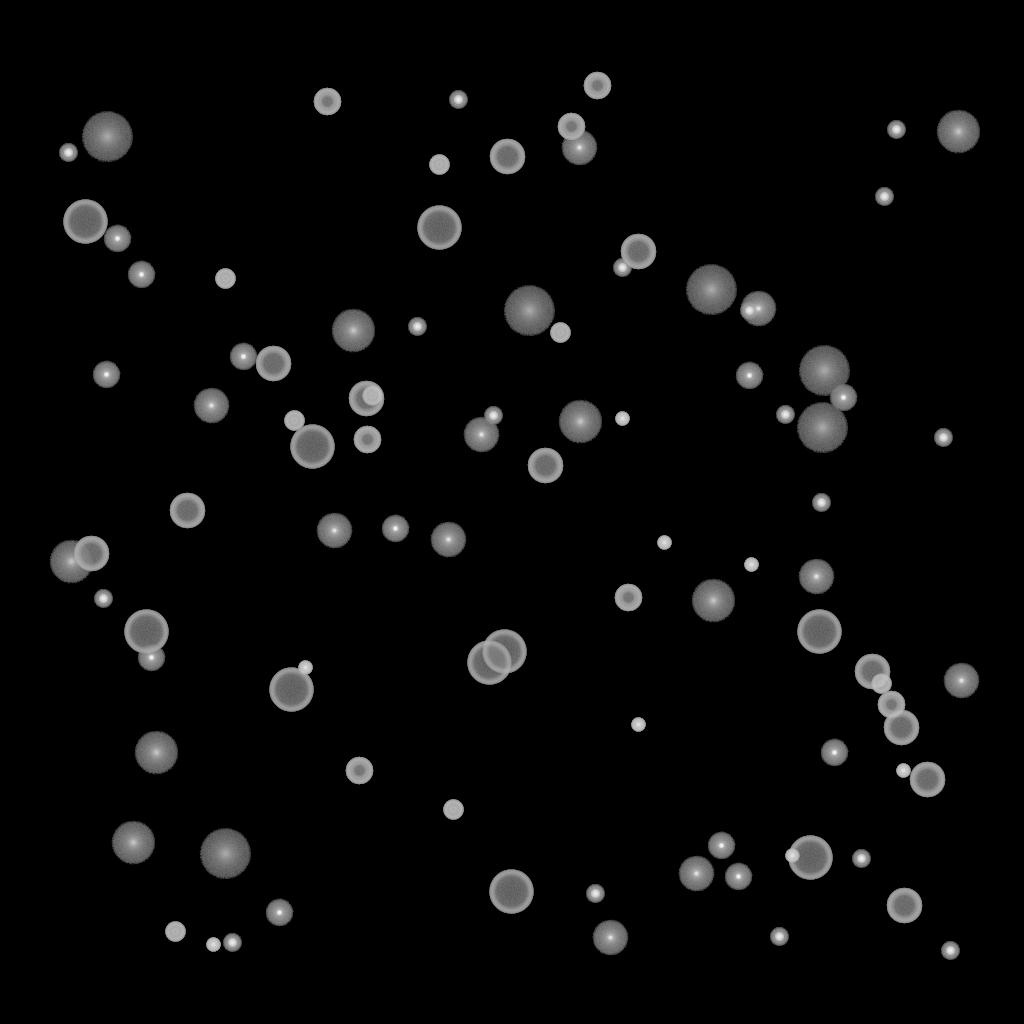depth:-10: (829, 384, 857, 412), (735, 362, 763, 390), (381, 515, 409, 543), (92, 361, 120, 389), (707, 832, 735, 860), (820, 739, 848, 767), (229, 343, 257, 371), (127, 261, 155, 289), (103, 225, 131, 253), (724, 863, 752, 891), (265, 899, 293, 927), (137, 644, 165, 672)
depth:-20: (875, 188, 893, 206), (770, 928, 788, 946), (941, 942, 959, 960), (852, 850, 870, 868), (223, 934, 241, 952), (59, 144, 77, 162), (94, 590, 112, 608), (484, 407, 502, 425), (449, 91, 467, 109), (887, 121, 905, 139), (812, 494, 830, 512), (740, 302, 758, 320), (934, 429, 952, 447), (776, 406, 794, 424), (408, 318, 426, 336), (586, 885, 604, 903), (613, 259, 631, 277)
depth:-30: (615, 412, 629, 426), (785, 849, 799, 863), (206, 938, 220, 952), (896, 764, 910, 778), (298, 661, 312, 675), (631, 718, 645, 732), (657, 536, 671, 550), (744, 558, 758, 572)
depth:-40: (284, 411, 304, 431), (215, 269, 235, 289), (550, 323, 570, 343), (429, 155, 449, 175), (443, 800, 463, 820), (165, 922, 185, 942), (871, 674, 891, 694), (362, 386, 382, 406)
depth:-50: (557, 113, 585, 141), (353, 426, 381, 454), (313, 88, 341, 116), (877, 691, 905, 719), (614, 584, 642, 612), (345, 757, 373, 785), (583, 72, 611, 100)
depth:-60: (73, 536, 109, 572), (620, 234, 656, 270), (489, 139, 525, 175), (348, 381, 384, 417), (255, 346, 291, 382), (909, 762, 945, 798), (854, 654, 890, 690), (527, 448, 563, 484), (169, 493, 205, 529), (883, 710, 919, 746), (886, 888, 922, 924)
depth:-70: (797, 610, 841, 654), (788, 836, 832, 880), (489, 870, 533, 914), (269, 668, 313, 712), (482, 630, 526, 674), (63, 200, 107, 244), (124, 610, 168, 654), (290, 425, 334, 469), (417, 206, 461, 250), (467, 641, 511, 685)
depth:0: (463, 417, 499, 453), (592, 920, 628, 956), (193, 388, 229, 424), (678, 856, 714, 892), (561, 130, 597, 166), (430, 522, 466, 558), (798, 559, 834, 595), (316, 513, 352, 549), (740, 291, 776, 327), (943, 663, 979, 699)
depth:10: (49, 540, 93, 584), (558, 400, 602, 444), (691, 579, 735, 623), (111, 821, 155, 865), (936, 110, 980, 154), (331, 309, 375, 353), (134, 731, 178, 775)
depth:20: (199, 829, 251, 879), (685, 265, 737, 315), (798, 346, 850, 396), (503, 286, 555, 336), (81, 112, 133, 162), (796, 403, 848, 453)
